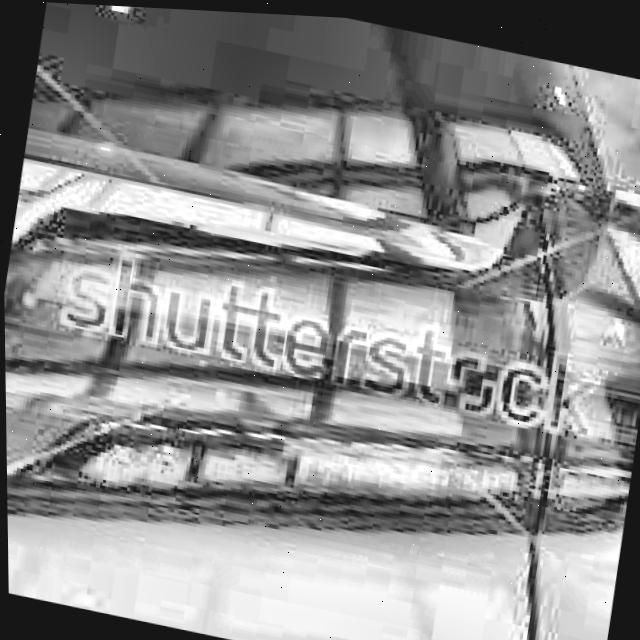tail_lamp: (2, 154, 640, 540)
